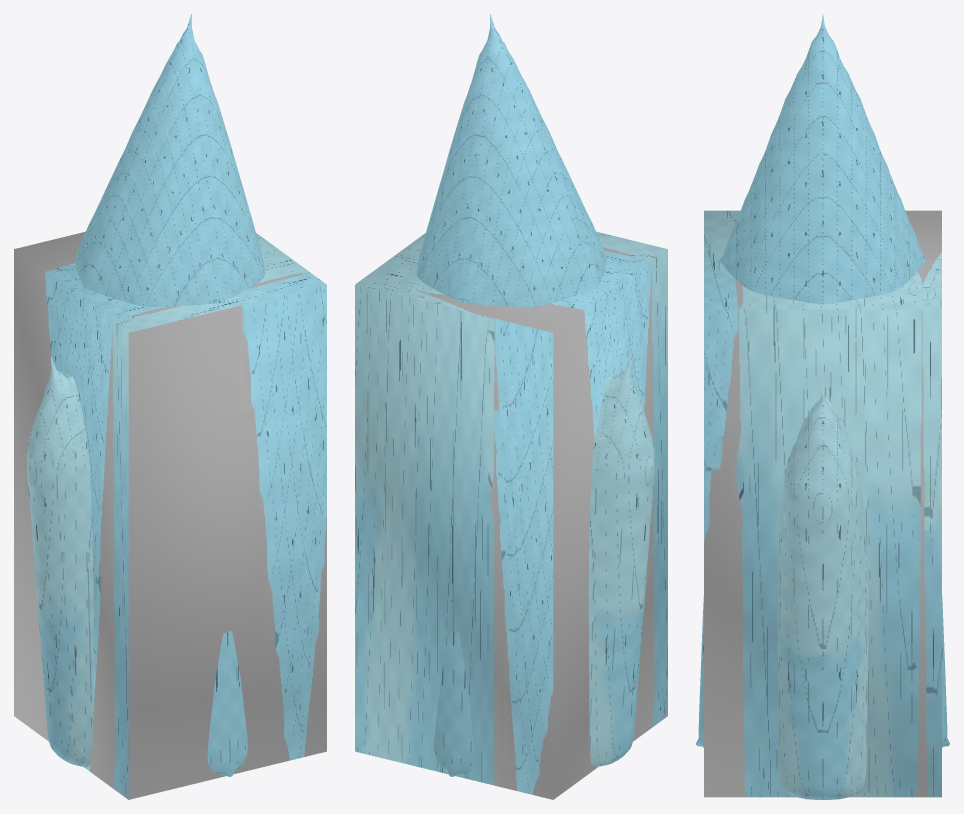
Rendered from landmark_crystal.glb.
The picture shows the model from 3 angles, left to right: view 1: azimuth 30°, elevation 25°; view 2: azimuth 150°, elevation 25°; view 3: azimuth 270°, elevation 25°; orthographic projection. The views are drawn at different scales.
Parts seen in each view (by area): view 1: col, lod0; view 2: col, lod0; view 3: col, lod0.
Boxes of the visible parts, <box> form: col: <box>14,231,326,799</box>; lod0: <box>27,14,265,776</box>; col: <box>355,231,667,799</box>; lod0: <box>416,14,654,776</box>; col: <box>704,210,941,797</box>; lod0: <box>696,14,949,799</box>.
Size of what is drawn, in the model's own units: 5.67 by 13.79 by 4.26.
1 material, 1 textured.
